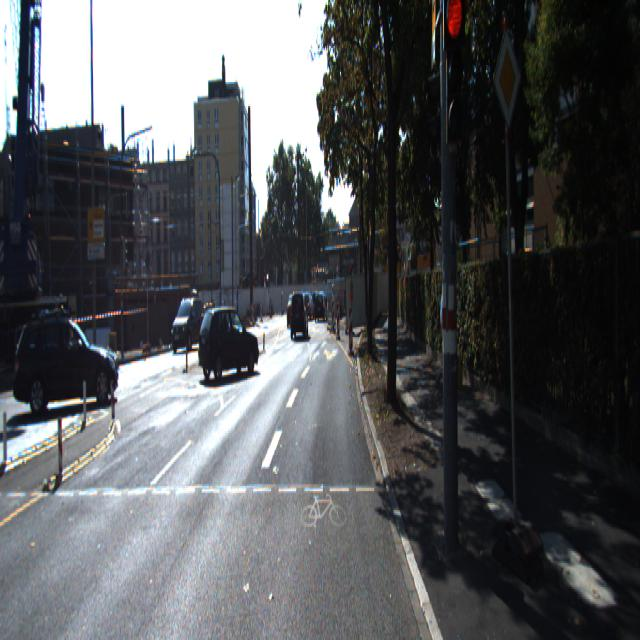Car: (14, 308, 120, 412), (197, 301, 260, 383), (170, 292, 205, 350), (289, 285, 308, 336), (288, 292, 302, 326)
